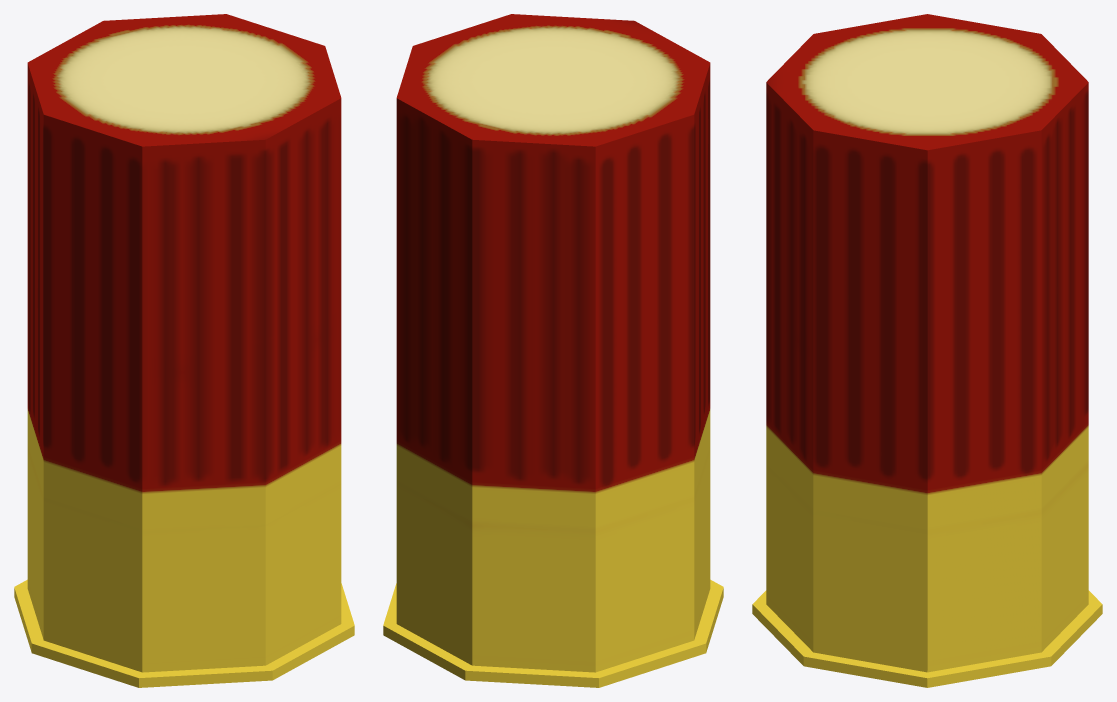
The model's file is 20gauge_new.fbx.
3 views of the same model, side by side, from view 1: azimuth 30°, elevation 25°; view 2: azimuth 150°, elevation 25°; view 3: azimuth 270°, elevation 25° (orthographic).
Parts seen in each view (by area): view 1: Cylinder.004; view 2: Cylinder.004; view 3: Cylinder.004.
Part boxes in pixels (x1,y1,x2,y2): Cylinder.004: [14, 14, 354, 687]; Cylinder.004: [383, 14, 723, 687]; Cylinder.004: [752, 14, 1102, 687].
Bounding box in the file's own units: 15.19 × 25.47 × 15.19.
1 material, 1 textured.
